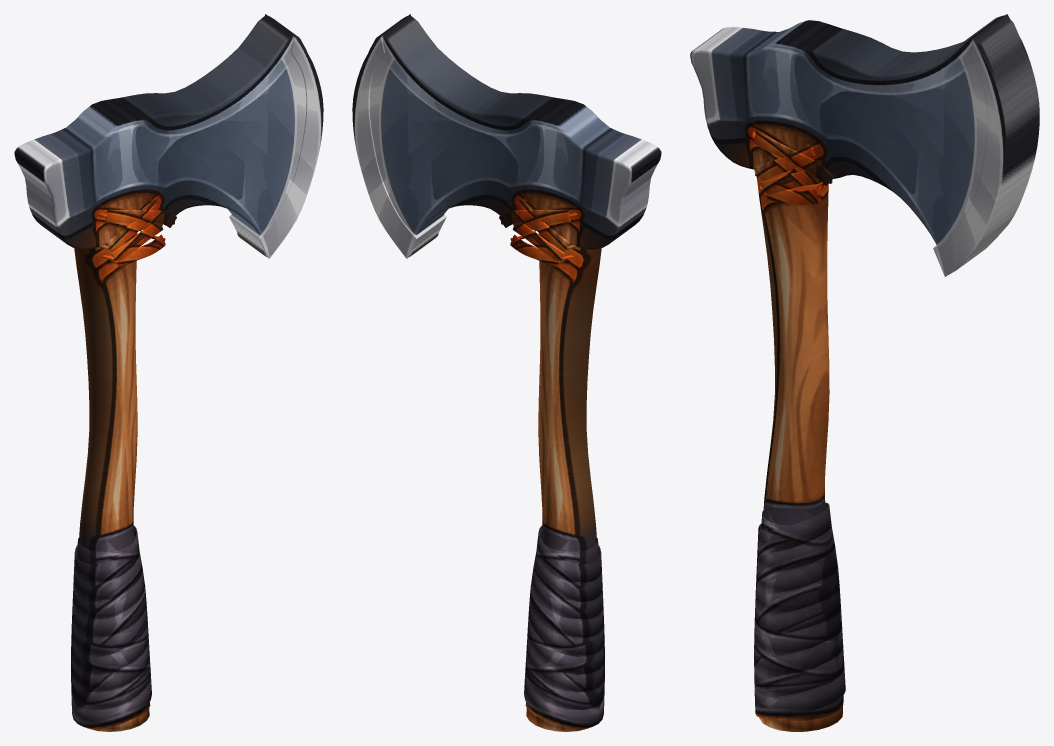
File: axe.glb
The picture shows the model from 3 angles, left to right: view 1: azimuth 30°, elevation 25°; view 2: azimuth 150°, elevation 25°; view 3: azimuth 330°, elevation 25°; orthographic projection. The views are drawn at different scales.
Parts seen in each view (by area): view 1: reference-traced forged head.001, reference-shaped carved wooden haft.001, leather grip underlay.001, wide polished working bevel.001, rounded orange socket wrap 0.002; view 2: reference-traced forged head.001, reference-shaped carved wooden haft.001, leather grip underlay.001, wide polished working bevel.001, rounded orange socket wrap 0.002; view 3: reference-traced forged head.001, reference-shaped carved wooden haft.001, leather grip underlay.001, wide polished working bevel.001, rounded orange socket wrap 0.002.
Boxes of the visible parts, <box> form: reference-traced forged head.001: <box>14,15,307,257</box>; reference-shaped carved wooden haft.001: <box>74,222,149,731</box>; leather grip underlay.001: <box>71,525,151,728</box>; wide polished working bevel.001: <box>229,14,323,258</box>; rounded orange socket wrap 0.002: <box>98,199,176,266</box>; reference-traced forged head.001: <box>368,15,661,257</box>; reference-shaped carved wooden haft.001: <box>526,222,601,731</box>; leather grip underlay.001: <box>524,525,604,728</box>; wide polished working bevel.001: <box>352,14,446,258</box>; rounded orange socket wrap 0.002: <box>499,199,577,266</box>; reference-traced forged head.001: <box>690,15,1037,274</box>; reference-shaped carved wooden haft.001: <box>756,148,842,731</box>; leather grip underlay.001: <box>754,502,845,720</box>; wide polished working bevel.001: <box>933,14,1039,276</box>; rounded orange socket wrap 0.002: <box>752,131,834,204</box>.
Size of the model in its own units: 0.5889 by 1.3 by 0.1467.
Materials: 5 (5 with a texture image).
